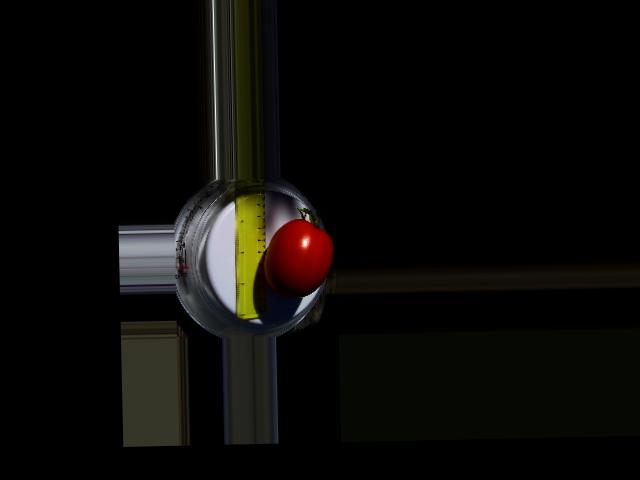tomato: (261, 217, 335, 297)
